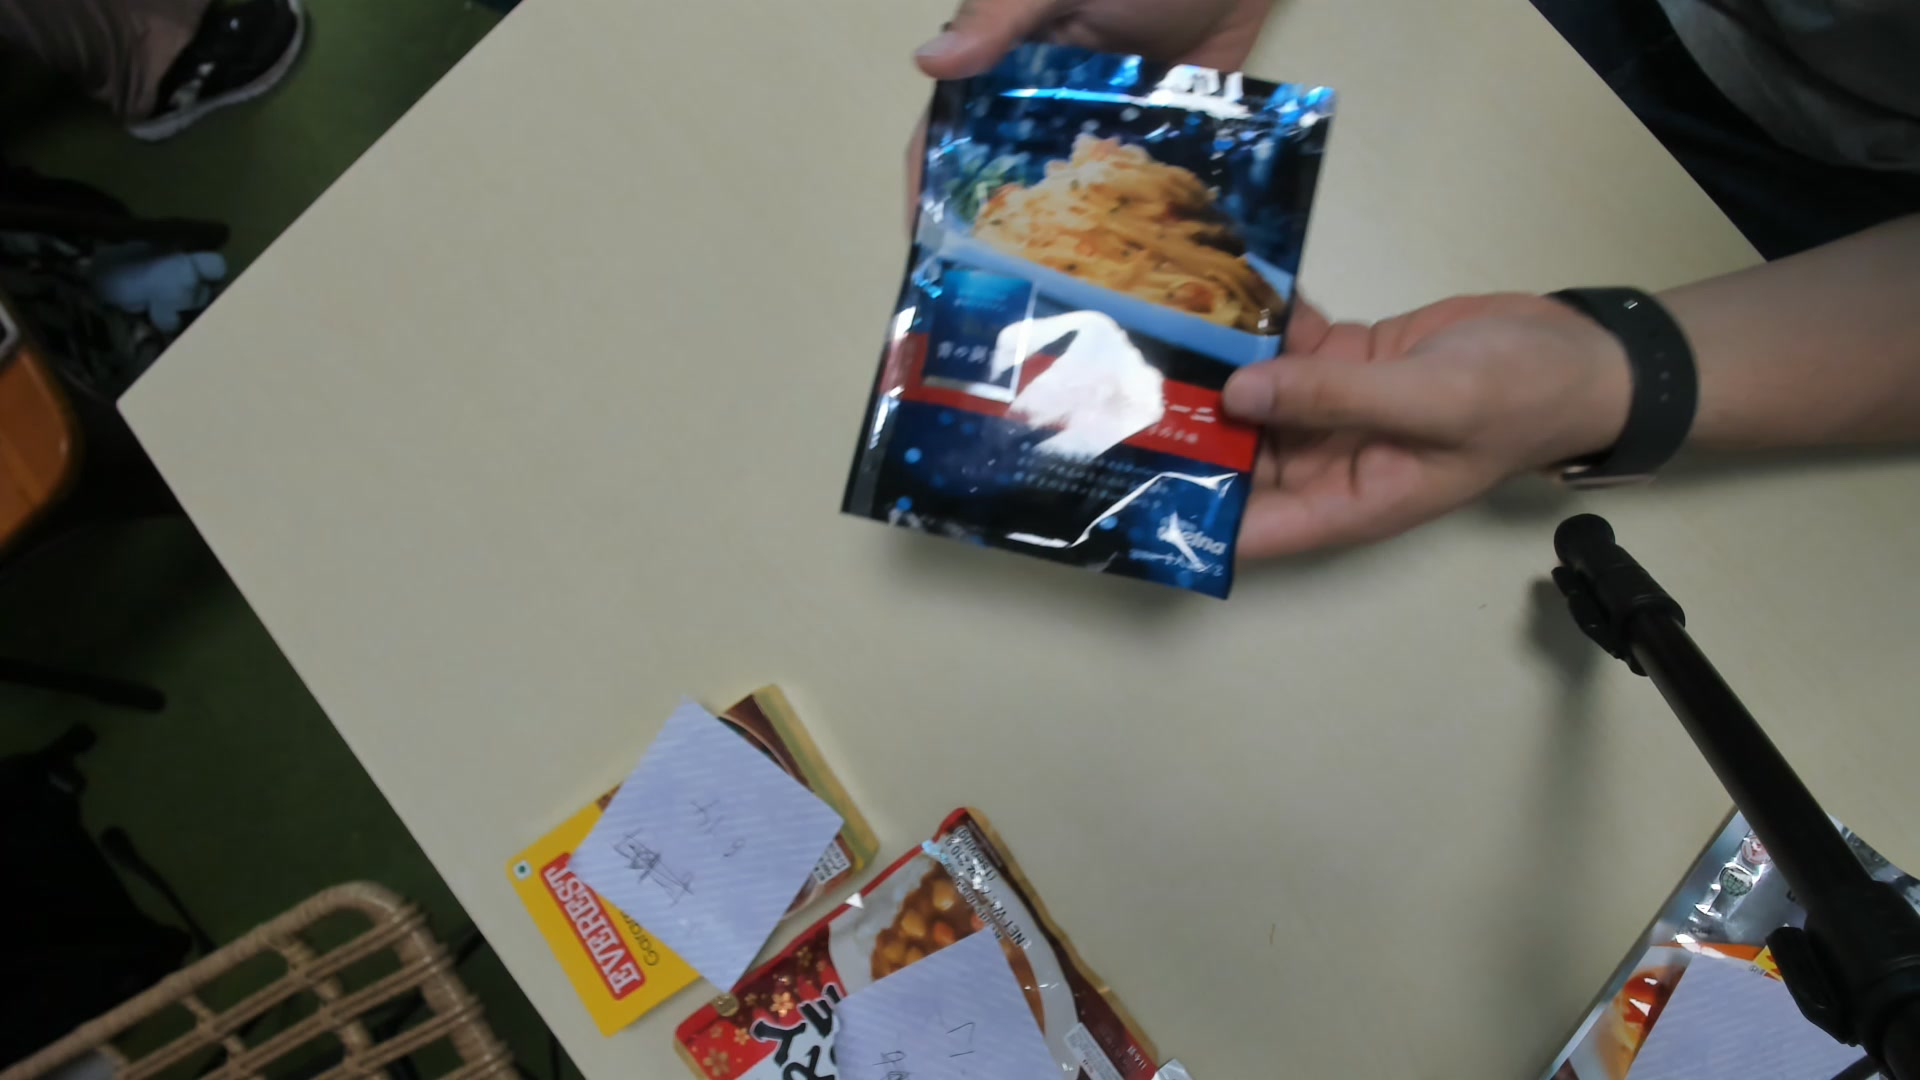CurryPastePowderSauce_0-99g_NonHalal_NonHealthy: (843, 38, 1335, 593)
